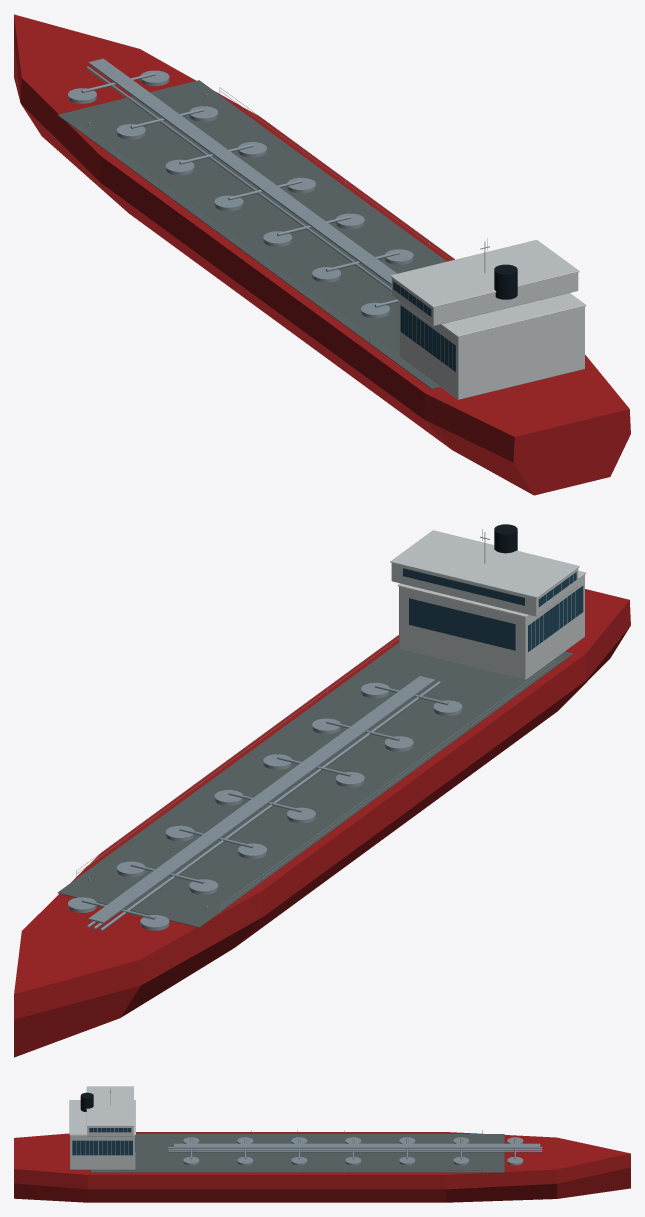
Rendered from ship-tanker.glb.
The picture shows the model from 3 angles, top to bottom: view 1: azimuth 30°, elevation 25°; view 2: azimuth 150°, elevation 25°; view 3: azimuth 270°, elevation 25°; orthographic projection. The views are drawn at different scales.
Parts seen in each view (by area): view 1: ship-tanker_body, ship-tanker_metal, ship-tanker_glass; view 2: ship-tanker_body, ship-tanker_metal, ship-tanker_glass; view 3: ship-tanker_body, ship-tanker_metal, ship-tanker_glass.
Boxes of the visible parts, left/top/right/bottom form: ship-tanker_body: left=14, top=14, right=630, bottom=495; ship-tanker_metal: left=68, top=58, right=489, bottom=373; ship-tanker_glass: left=393, top=281, right=455, bottom=371; ship-tanker_body: left=14, top=524, right=630, bottom=1057; ship-tanker_metal: left=68, top=529, right=554, bottom=931; ship-tanker_glass: left=403, top=568, right=583, bottom=651; ship-tanker_body: left=14, top=1086, right=630, bottom=1202; ship-tanker_metal: left=110, top=1088, right=542, bottom=1171; ship-tanker_glass: left=72, top=1128, right=135, bottom=1155.
Size of the model in its own units: 27 by 29 by 160.
